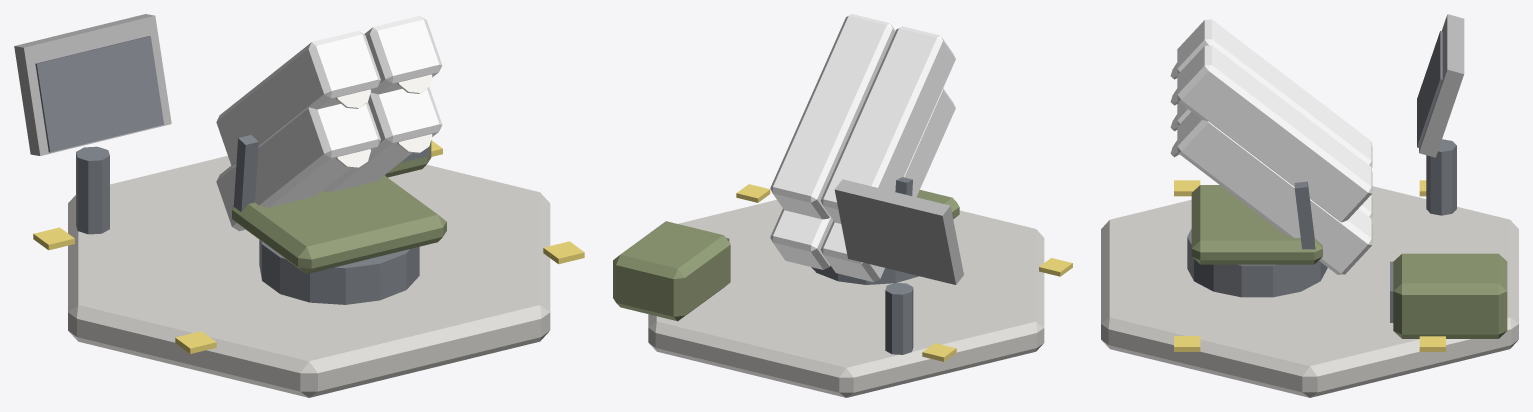
Rendered from aadef.glb.
The picture shows the model from 3 angles, left to right: view 1: azimuth 30°, elevation 25°; view 2: azimuth 150°, elevation 25°; view 3: azimuth 270°, elevation 25°; orthographic projection. The views are drawn at different scales.
Parts seen in each view (by area): view 1: main, turret, rotor; view 2: main, turret, rotor; view 3: main, turret, rotor.
Part boxes in pixels (<box>): main: <box>33,140,584,397</box>; turret: <box>216,16,446,273</box>; rotor: <box>14,14,171,155</box>; main: <box>613,184,1072,397</box>; turret: <box>770,14,959,282</box>; rotor: <box>834,179,963,284</box>; main: <box>1101,139,1518,397</box>; turret: <box>1170,19,1372,274</box>; rotor: <box>1417,14,1464,157</box>.
Bounding box in the file's own units: 1.08 × 0.6492 × 0.9526.
